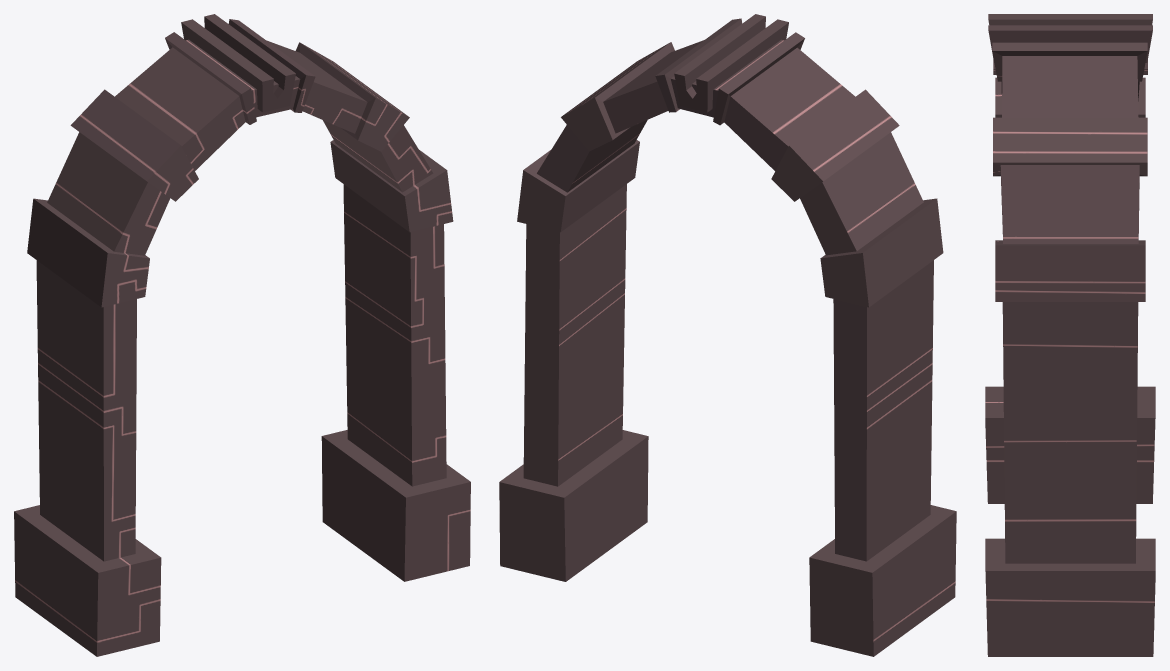
The model's file is Asset_Portail_LPDC_3D_Corrigé.fbx.
The picture shows the model from 3 angles, left to right: view 1: azimuth 30°, elevation 25°; view 2: azimuth 150°, elevation 25°; view 3: azimuth 270°, elevation 25°; orthographic projection.
Parts seen in each view (by area): view 1: Cube; view 2: Cube; view 3: Cube.
Part boxes in pixels (left/top/right/bottom): Cube: left=14, top=14, right=470, bottom=656; Cube: left=499, top=14, right=956, bottom=656; Cube: left=985, top=14, right=1155, bottom=656.
Size of the model in its own units: 369 by 506 by 145.
Materials: 1 (1 with a texture image).
